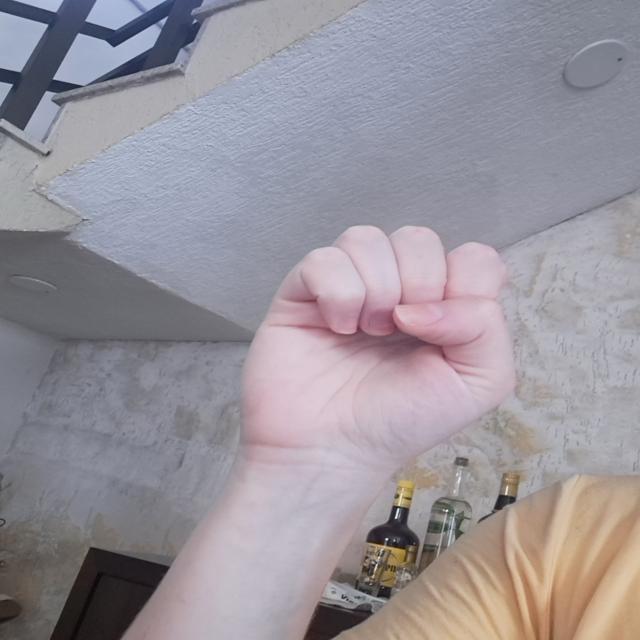S: (225, 210, 536, 468)
